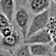cell: (32, 30, 46, 45), (11, 6, 23, 20), (31, 16, 44, 28), (1, 21, 15, 32), (11, 36, 24, 47), (29, 47, 44, 56), (17, 22, 28, 34), (44, 1, 56, 12), (45, 43, 56, 53), (49, 20, 56, 33), (1, 10, 7, 21)
